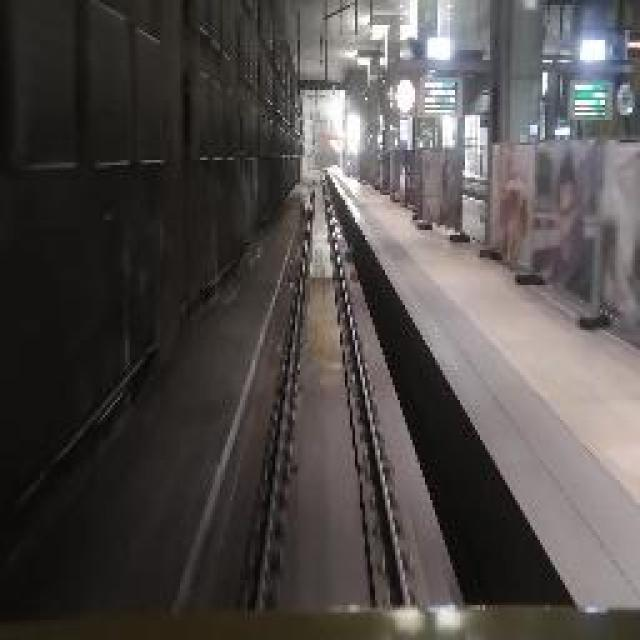rail: (221, 168, 449, 610)
